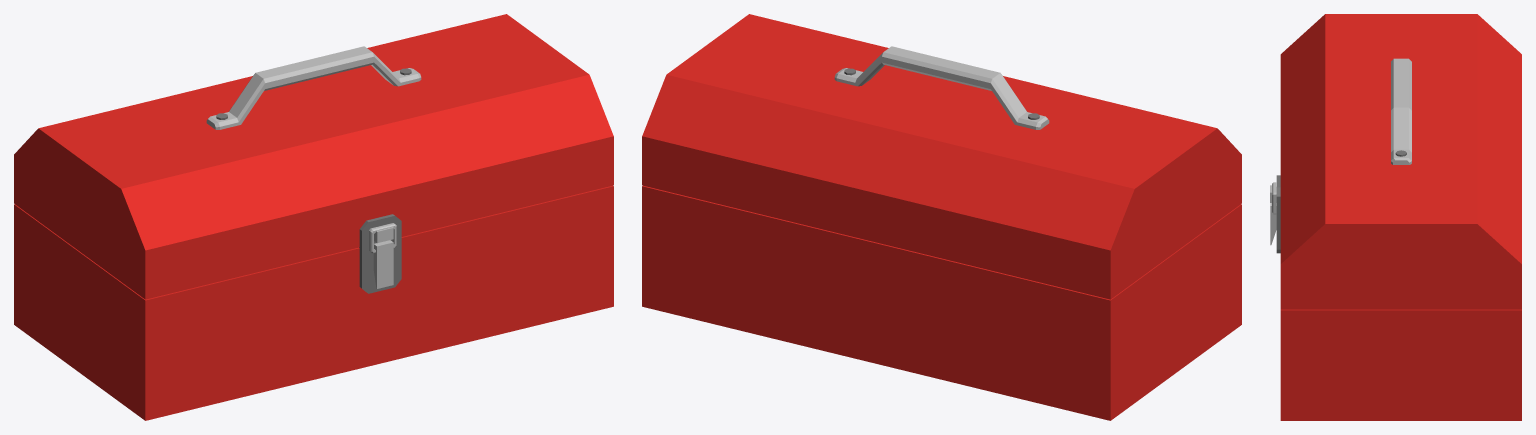
Rendered from toolbox.fbx.
3 views of the same model, side by side, from view 1: azimuth 30°, elevation 25°; view 2: azimuth 150°, elevation 25°; view 3: azimuth 270°, elevation 25° (orthographic). The views are drawn at different scales.
Parts seen in each view (by area): view 1: Toolbox; view 2: Toolbox; view 3: Toolbox.
Boxes of the visible parts, bbox=[...] form: Toolbox: bbox=[14, 14, 613, 420]; Toolbox: bbox=[642, 14, 1241, 420]; Toolbox: bbox=[1270, 14, 1521, 420].
Bounding box in the file's own units: 29.15 × 14.78 × 15.06.
